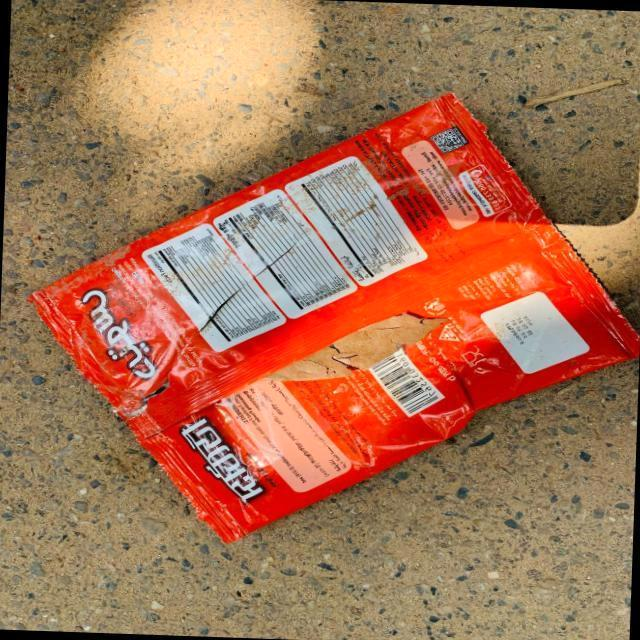packet: (44, 98, 626, 547)
